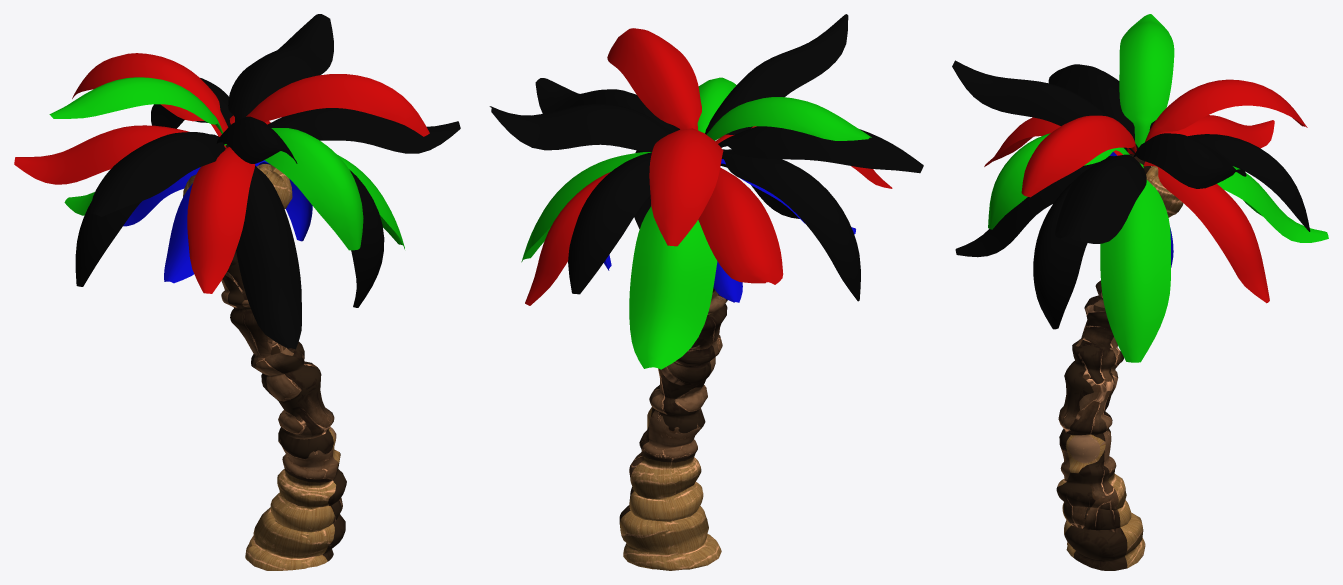
Rendered from Coconut_Tree_01_LOD0.fbx.
3 renders of one model, left to right at view 1: azimuth 30°, elevation 25°; view 2: azimuth 150°, elevation 25°; view 3: azimuth 270°, elevation 25°, orthographic. The views are drawn at different scales.
Parts seen in each view (by area): view 1: Coconut_Leafs_01_LOD0, Coconut_Trunk_01_LOD0; view 2: Coconut_Leafs_01_LOD0, Coconut_Trunk_01_LOD0; view 3: Coconut_Leafs_01_LOD0, Coconut_Trunk_01_LOD0.
Part boxes in pixels (<box>): Coconut_Leafs_01_LOD0: <box>14,14,460,349</box>; Coconut_Trunk_01_LOD0: <box>183,144,346,570</box>; Coconut_Leafs_01_LOD0: <box>489,14,923,369</box>; Coconut_Trunk_01_LOD0: <box>619,204,727,570</box>; Coconut_Leafs_01_LOD0: <box>952,14,1328,362</box>; Coconut_Trunk_01_LOD0: <box>1056,154,1183,570</box>.
Bounding box in the file's own units: 3.92 × 4.99 × 3.73.
